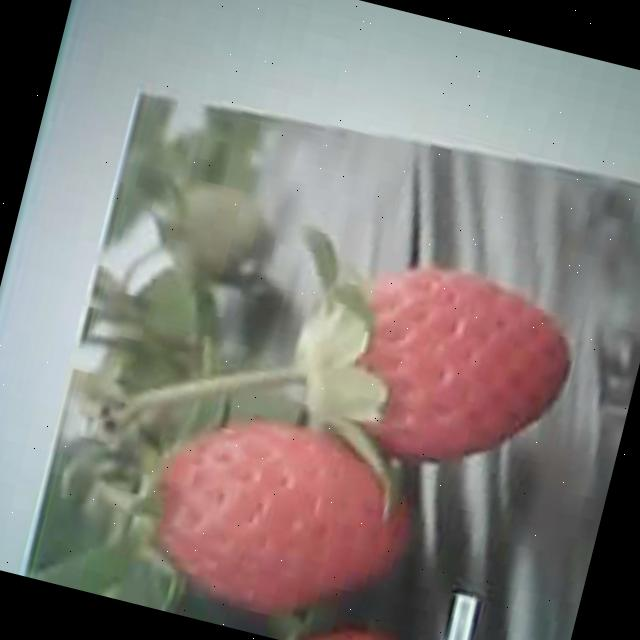strawberry: (294, 240, 582, 486), (136, 399, 426, 637), (156, 174, 269, 281)
